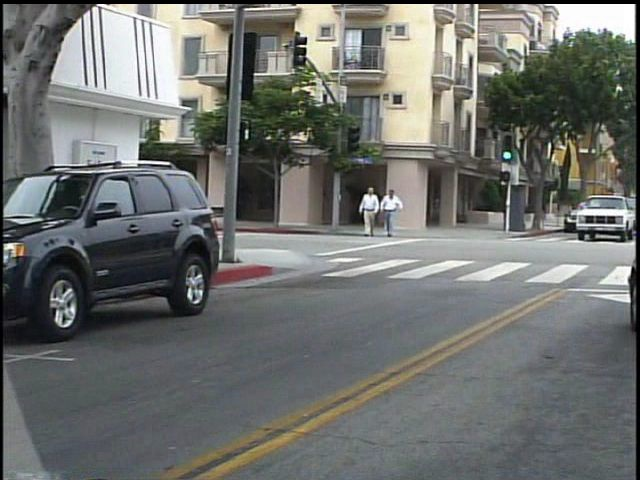person: (364, 182, 388, 244), (384, 185, 410, 241)
